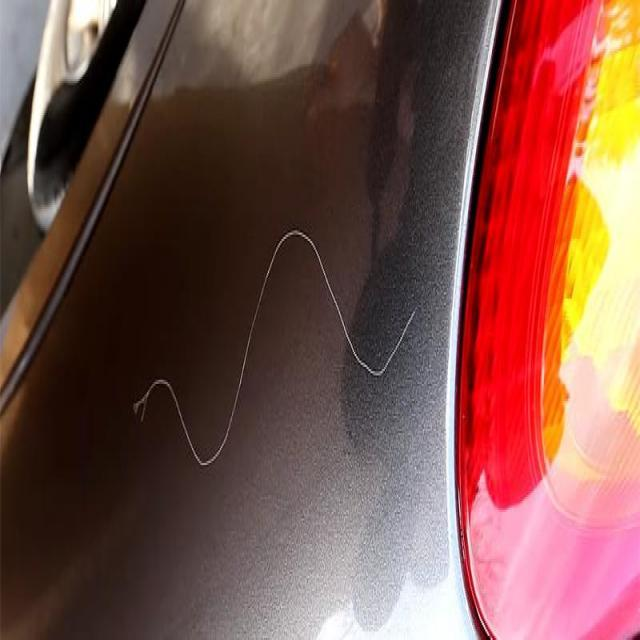scratch: (124, 200, 428, 534)
